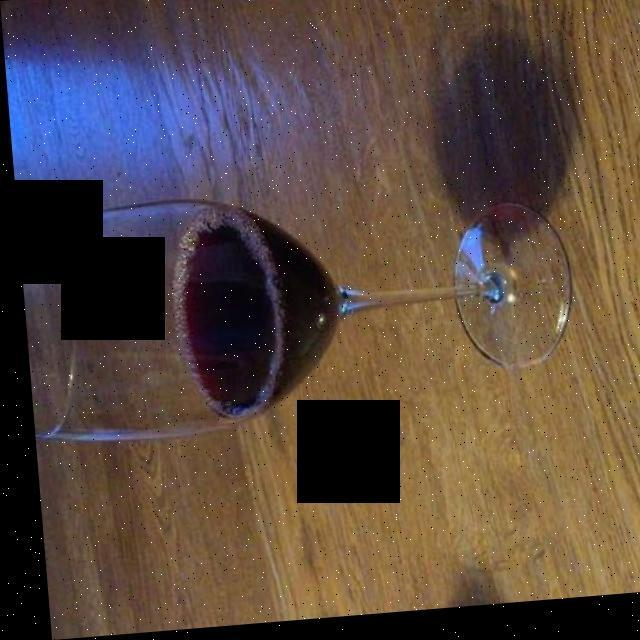wine: (177, 215, 327, 414)
